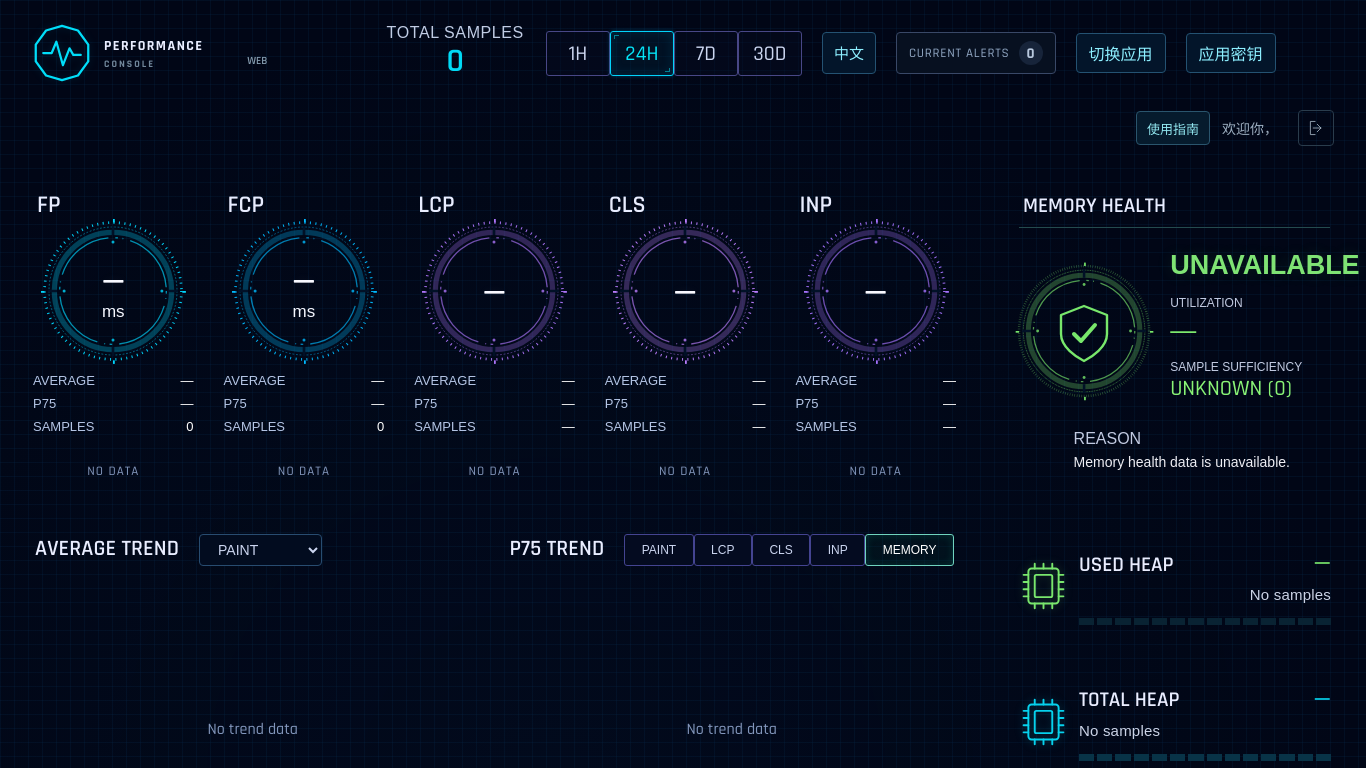
it: App › switches the dashboard between English and Chinese
The width and height of the screenshot is (1366, 768).
Step 1. Click the button with class "locale-toggle" → (849, 53), box x1=822 y1=32 x2=876 y2=74
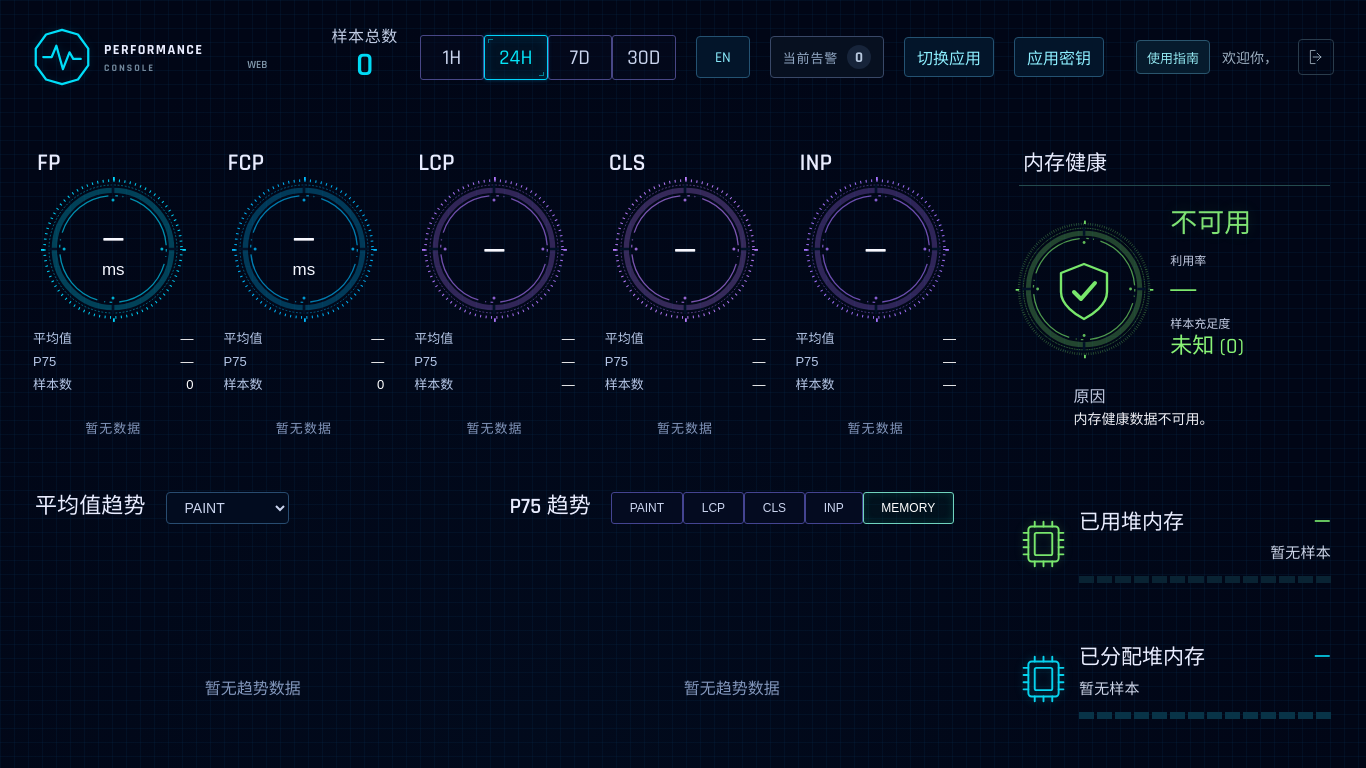
Expected: the text "样本总数" is shown, x1=331 y1=28 x2=398 y2=45
Expected: the text "平均值趋势" is shown, x1=35 y1=494 x2=146 y2=521
